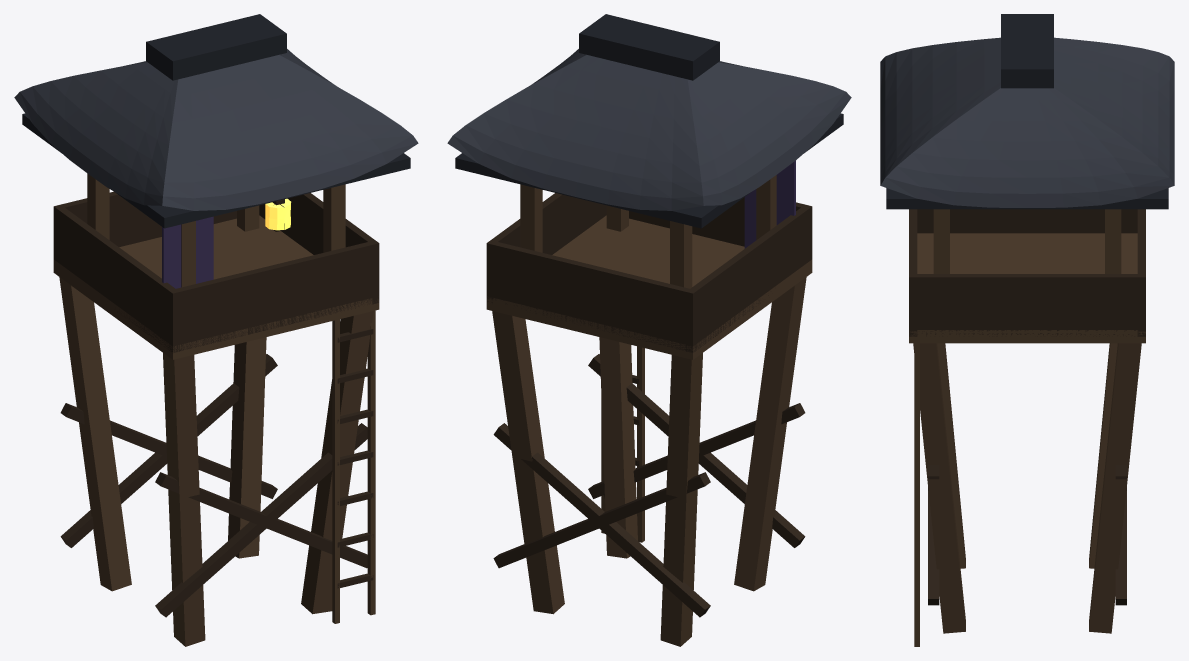
File: 2-23_watchtower.glb
3 views of the same model, side by side, from view 1: azimuth 30°, elevation 25°; view 2: azimuth 150°, elevation 25°; view 3: azimuth 270°, elevation 25° (orthographic).
Visible parts, largest first — view 1: 櫓（見張り台）; view 2: 櫓（見張り台）; view 3: 櫓（見張り台）.
Part boxes in pixels (x1,y1,x2,y2): 櫓（見張り台）: [14, 14, 418, 646]; 櫓（見張り台）: [447, 14, 851, 646]; 櫓（見張り台）: [880, 14, 1174, 646].
Size of the model in its own units: 3.6 by 7.52 by 3.6.
